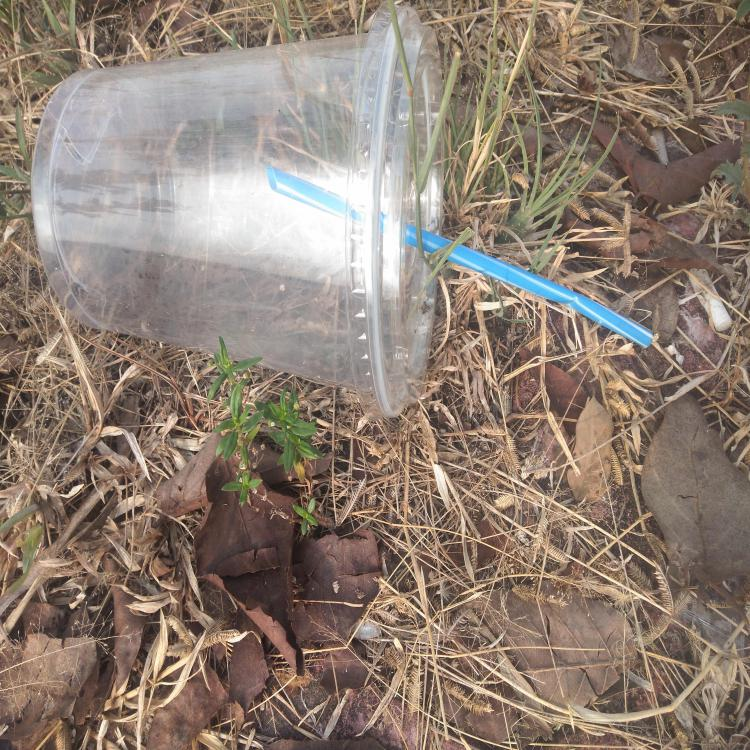Cigarette: (688, 267, 732, 331)
Disposable plastic cup: (30, 2, 444, 422)
Plastic lid: (345, 2, 445, 422)
Plastic straw: (266, 166, 653, 348)
